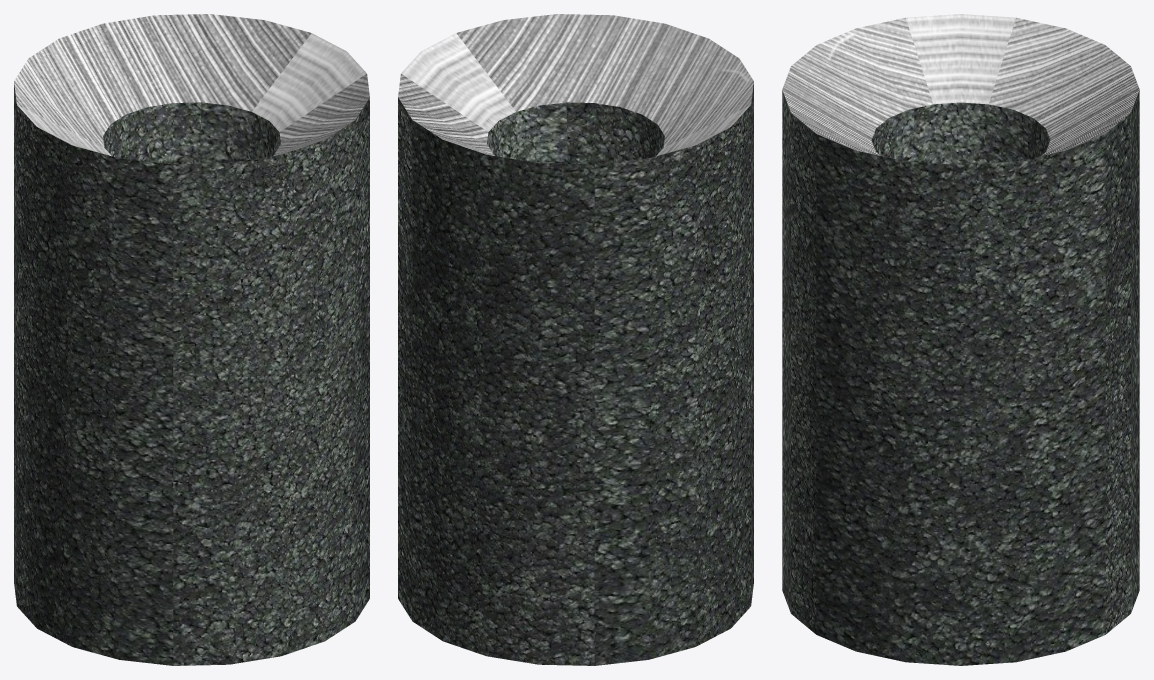
The model's file is Bin.fbx.
The picture shows the model from 3 angles, left to right: view 1: azimuth 30°, elevation 25°; view 2: azimuth 150°, elevation 25°; view 3: azimuth 270°, elevation 25°; orthographic projection.
Parts seen in each view (by area): view 1: pPipe1; view 2: pPipe1; view 3: pPipe1.
Part boxes in pixels (<box>): pPipe1: <box>14,14,369,665</box>; pPipe1: <box>398,14,753,665</box>; pPipe1: <box>782,14,1139,665</box>.
Size of the model in its own units: 2 by 3.09 by 2.
